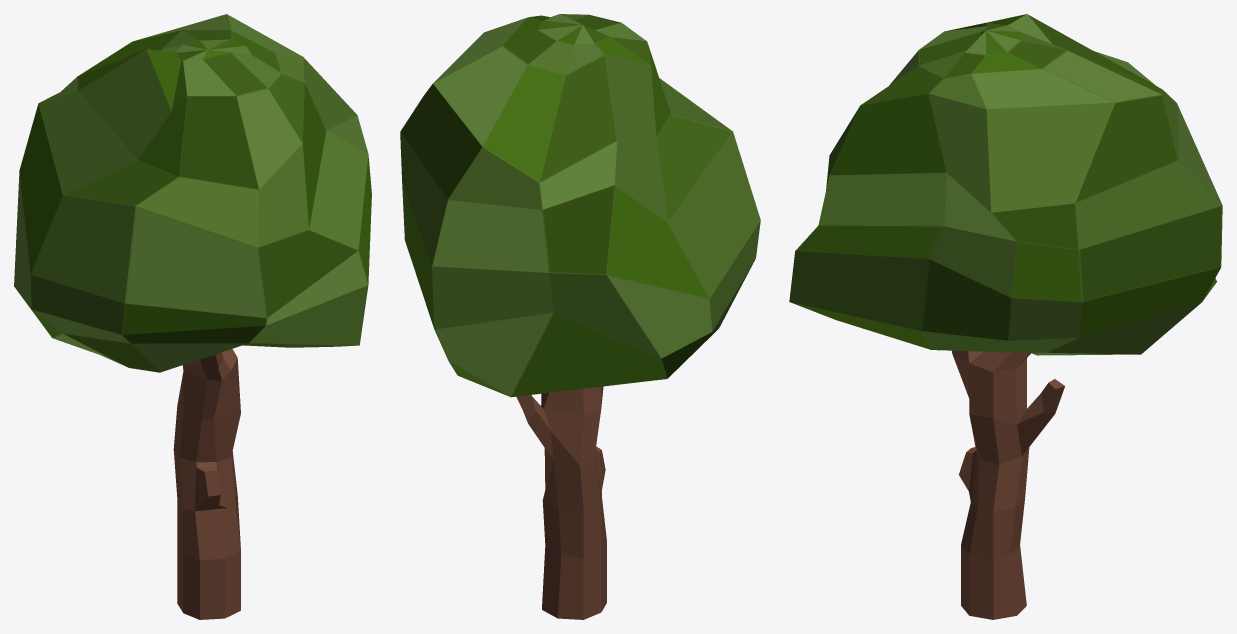
File: Boom_2.fbx
The picture shows the model from 3 angles, left to right: view 1: azimuth 30°, elevation 25°; view 2: azimuth 150°, elevation 25°; view 3: azimuth 270°, elevation 25°; orthographic projection. The views are drawn at different scales.
Parts seen in each view (by area): view 1: Boom_2; view 2: Boom_2; view 3: Boom_2.
Boxes of the visible parts, x1,y1,x2,y2 form: Boom_2: (14, 14, 371, 619); Boom_2: (400, 14, 760, 619); Boom_2: (789, 14, 1222, 619).
Bounding box in the file's own units: 10.76 × 18.74 × 12.85.
Materials: 1 (1 with a texture image).
